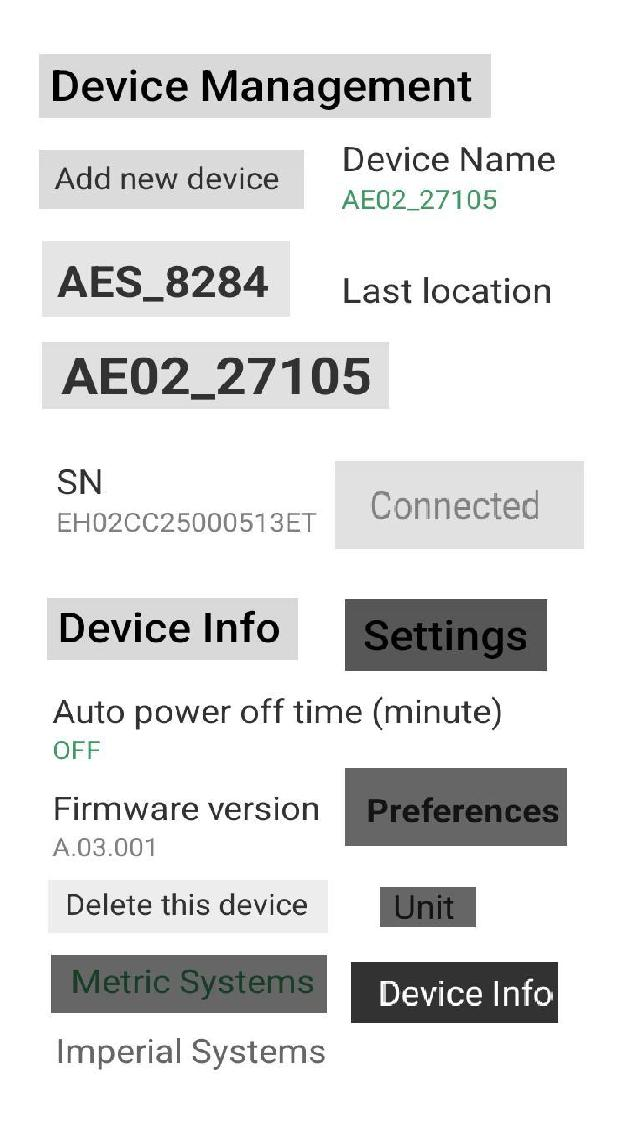Text: (47, 64, 475, 112), (48, 694, 514, 734), (54, 354, 376, 403), (53, 1032, 329, 1072), (48, 504, 318, 544), (333, 270, 556, 314), (63, 885, 313, 923), (52, 262, 276, 304), (47, 793, 323, 827), (56, 606, 290, 646), (63, 965, 321, 1000), (358, 789, 563, 833), (359, 614, 538, 663), (47, 160, 290, 196), (340, 140, 560, 177), (366, 486, 548, 528), (368, 977, 556, 1017), (337, 183, 502, 214), (50, 832, 166, 862), (388, 892, 461, 925), (52, 462, 107, 498), (49, 738, 108, 762)
